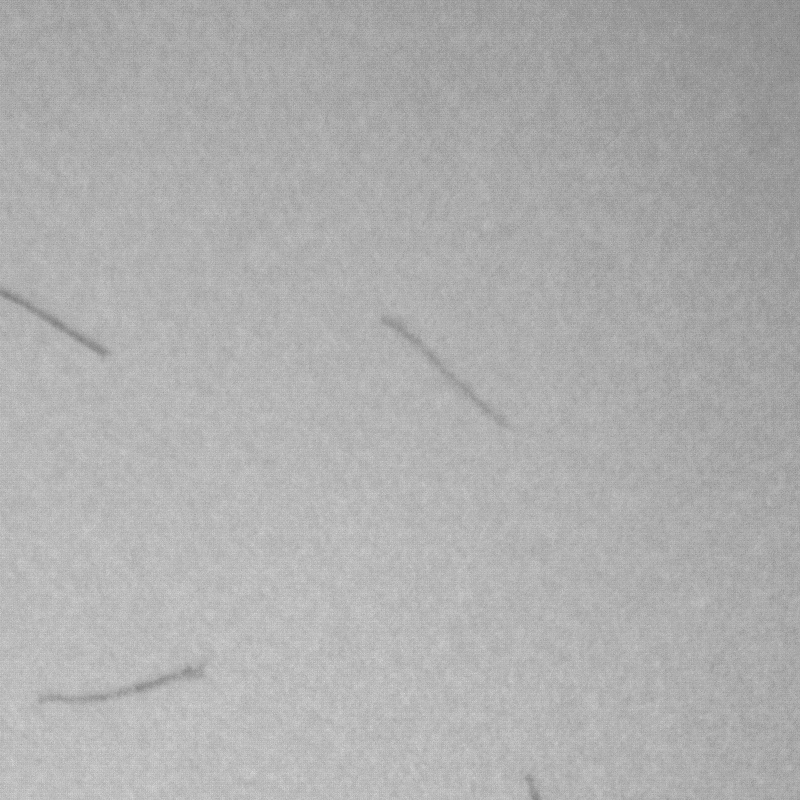defect: (385, 319, 509, 428), (31, 647, 204, 723), (1, 273, 131, 371), (524, 774, 545, 800)
